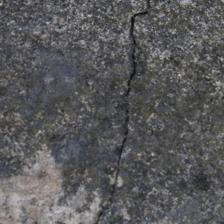Crack: (49, 5, 103, 219)
